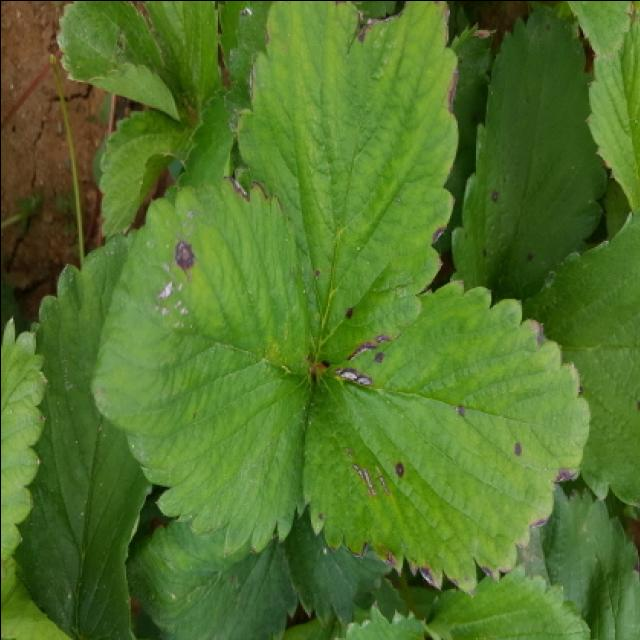Leaf Spot: (301, 279, 589, 598), (87, 177, 315, 558), (233, 2, 459, 362), (449, 2, 610, 307), (521, 209, 638, 509)
